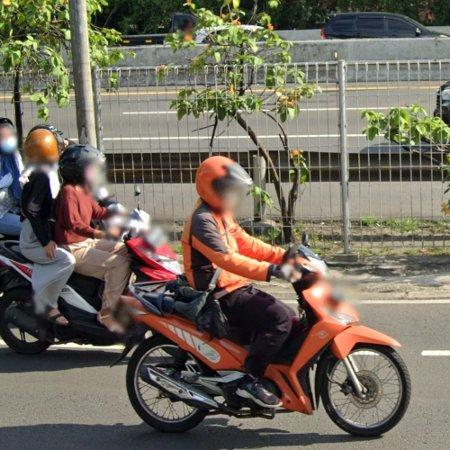motorcycles: (267, 247, 411, 437), (126, 277, 275, 433), (0, 241, 141, 355), (125, 210, 182, 294)
